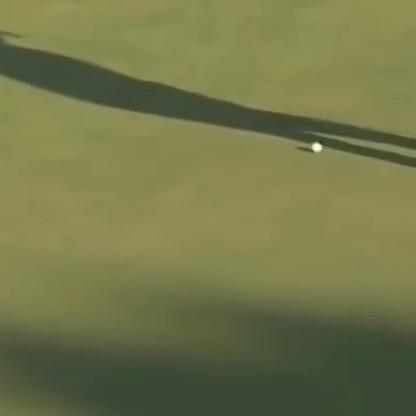golfball: (308, 137, 321, 153)
